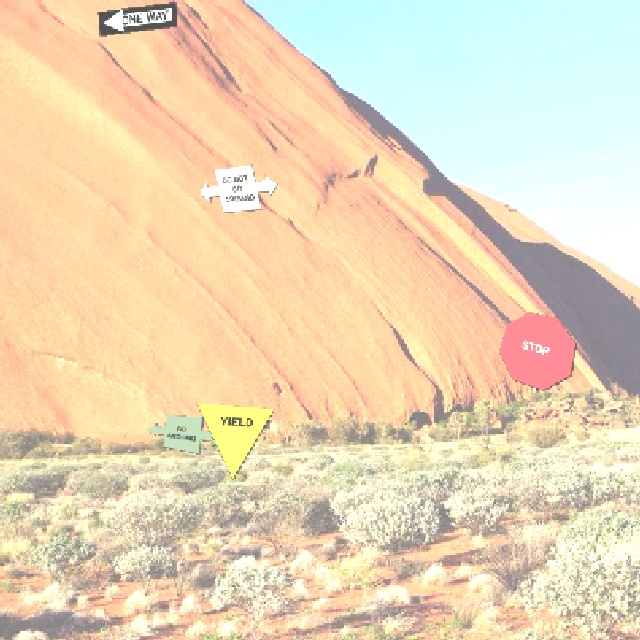DO_NOT_GO_AROUND: (197, 163, 277, 212)
GO_AROUND: (146, 413, 226, 453)
ONE_WAY_ left: (96, 0, 176, 35)
STOP: (497, 310, 575, 390)
YIELD: (194, 401, 274, 479)
